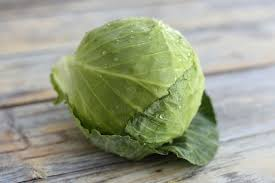cabbage: (55, 26, 222, 168)
